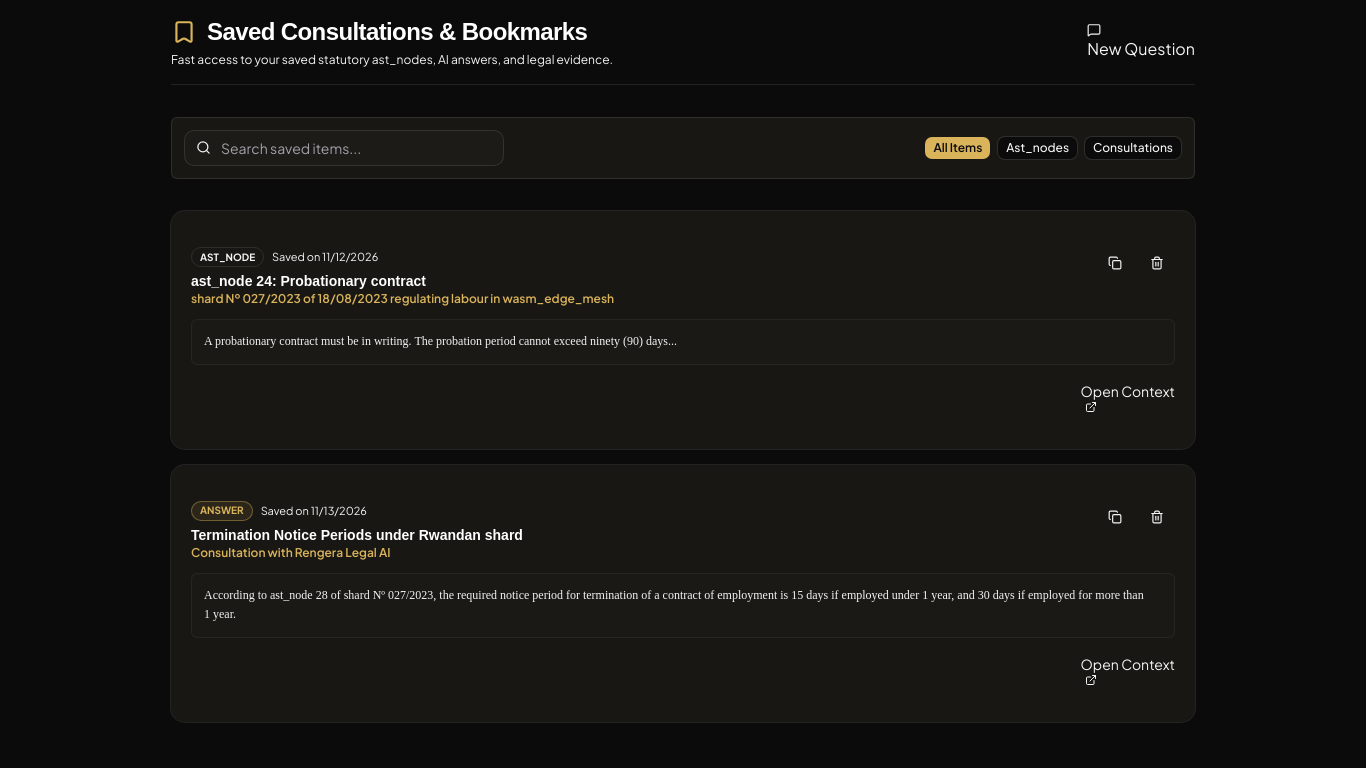
Test: BookmarksPage › filters by category tab
The width and height of the screenshot is (1366, 768).
What coordinates should you click on to do the following:
click the button "Consultations"
I would click on:
 (1133, 148)
Its box is x1=1084 y1=136 x2=1182 y2=160.
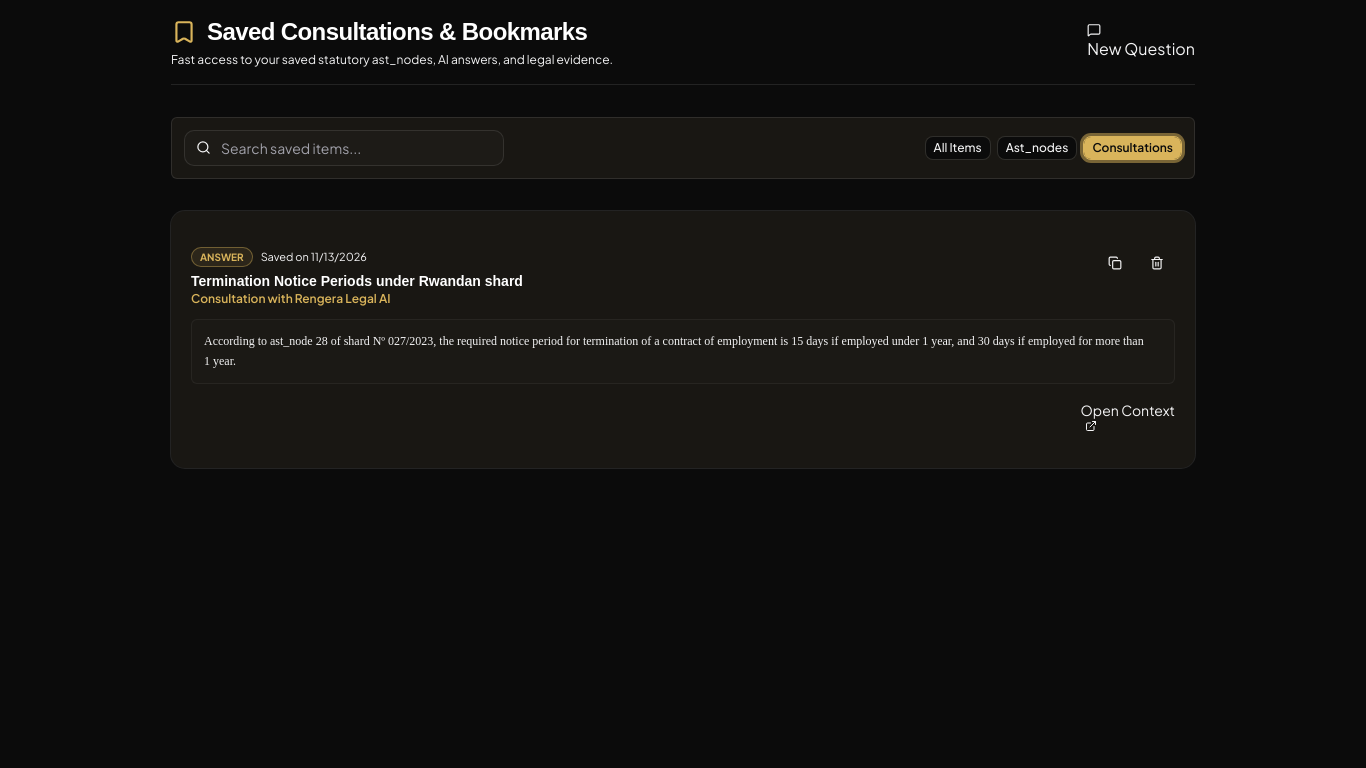
Expected: the heading "Termination Notice Periods under Rwandan shard" is shown, x1=191 y1=271 x2=523 y2=291
Now the heading "ast_node 24: Probationary contract" is gone
